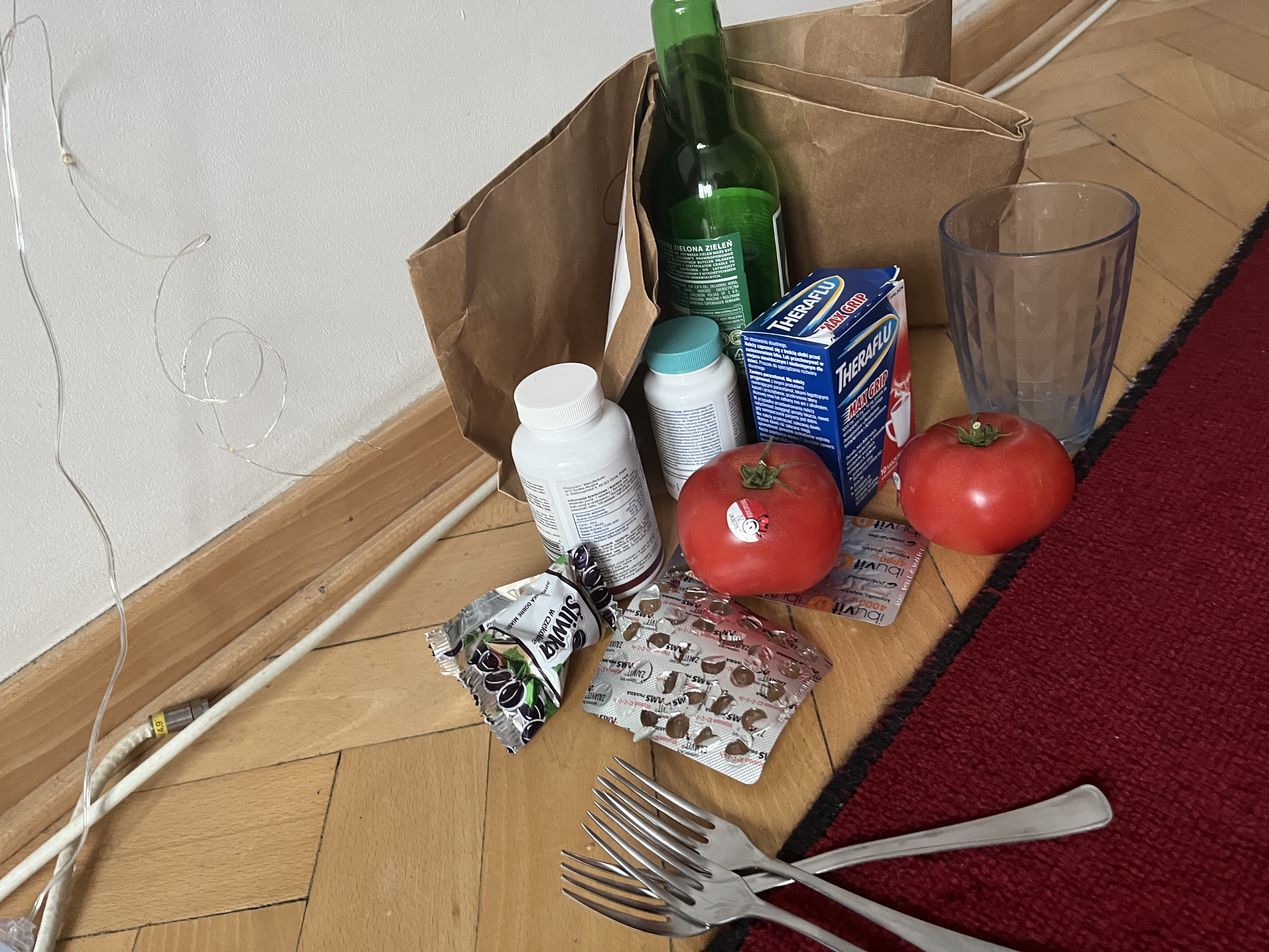BIODEGRADABLE: (883, 395, 1081, 571), (666, 441, 855, 595)
CARDBOARD: (404, 0, 1027, 387)
GLASS: (916, 166, 1162, 445), (642, 0, 785, 353)
METAL: (547, 871, 1120, 950), (608, 783, 829, 851), (591, 780, 630, 952)
PAPER: (757, 259, 914, 509)
PLASTIC: (577, 554, 815, 787), (488, 348, 662, 594), (413, 532, 612, 734), (642, 321, 750, 477), (804, 500, 917, 641)
